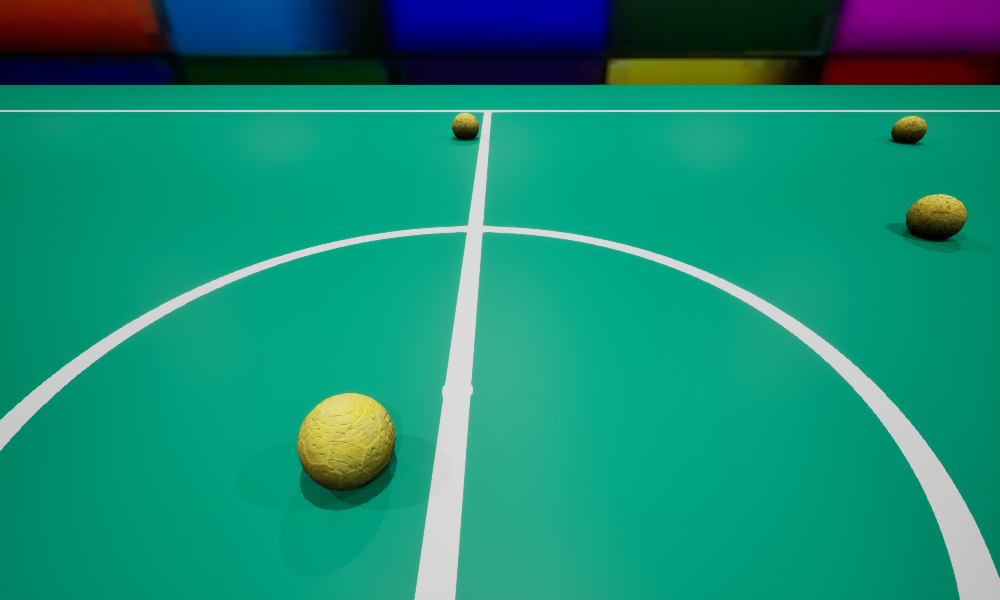b: (297, 393, 395, 490), (906, 194, 966, 239), (891, 116, 926, 143), (452, 113, 478, 139)
